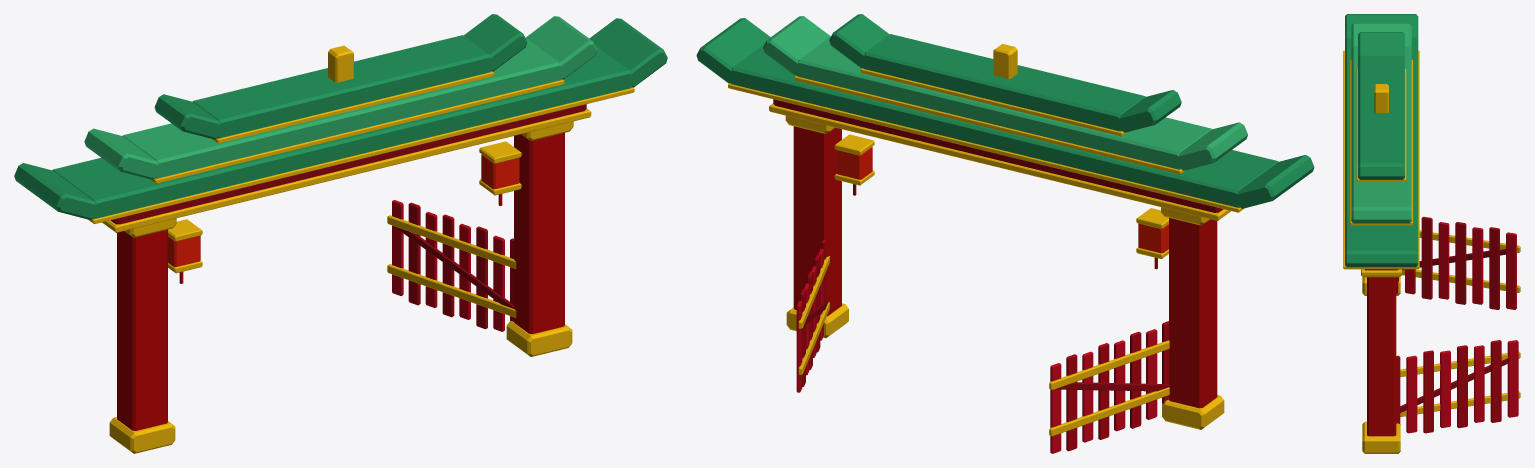
Rendered from gate.glb.
3 renders of one model, left to right at view 1: azimuth 30°, elevation 25°; view 2: azimuth 150°, elevation 25°; view 3: azimuth 270°, elevation 25°, orthographic. The views are drawn at different scales.
Visible parts, largest first — view 1: gate_plain, gate_wood, gate_metal; view 2: gate_plain, gate_wood, gate_metal; view 3: gate_wood, gate_plain, gate_metal.
Part boxes in pixels (x1,y1,x2,y2): gate_plain: [14, 14, 667, 283]; gate_wood: [110, 104, 586, 430]; gate_metal: [88, 45, 634, 453]; gate_plain: [696, 14, 1314, 269]; gate_wood: [773, 99, 1223, 453]; gate_metal: [728, 44, 1244, 429]; gate_wood: [1364, 216, 1520, 436]; gate_plain: [1345, 14, 1418, 267]; gate_metal: [1343, 50, 1419, 453].
Bounding box in the file's own units: 7.86 × 4.22 × 2.42.
